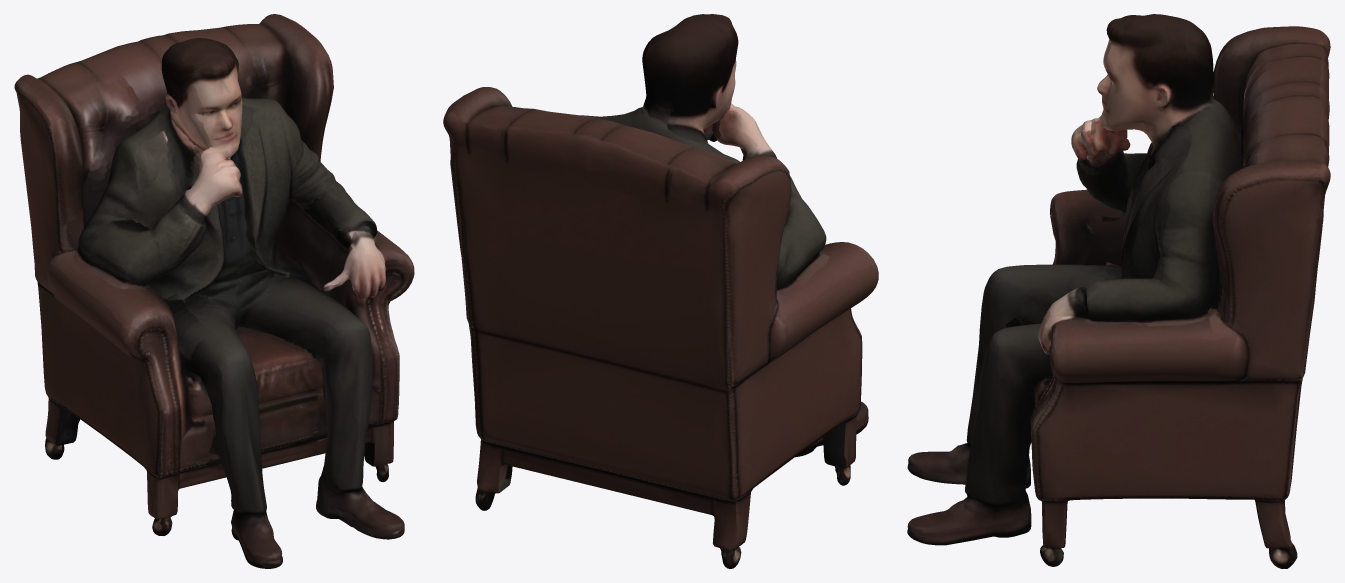
Rendered from person.glb.
The picture shows the model from 3 angles, left to right: view 1: azimuth 30°, elevation 25°; view 2: azimuth 150°, elevation 25°; view 3: azimuth 270°, elevation 25°; orthographic projection. The views are drawn at different scales.
Parts seen in each view (by area): view 1: tmp4jmxnedo.ply; view 2: tmp4jmxnedo.ply; view 3: tmp4jmxnedo.ply.
Part boxes in pixels (box(x1,y1,x2,y2)): tmp4jmxnedo.ply: box(14, 14, 414, 568); tmp4jmxnedo.ply: box(443, 14, 878, 568); tmp4jmxnedo.ply: box(907, 14, 1330, 568).
Bounding box in the file's own units: 1.37 × 1.96 × 1.58.
1 material, 1 textured.
